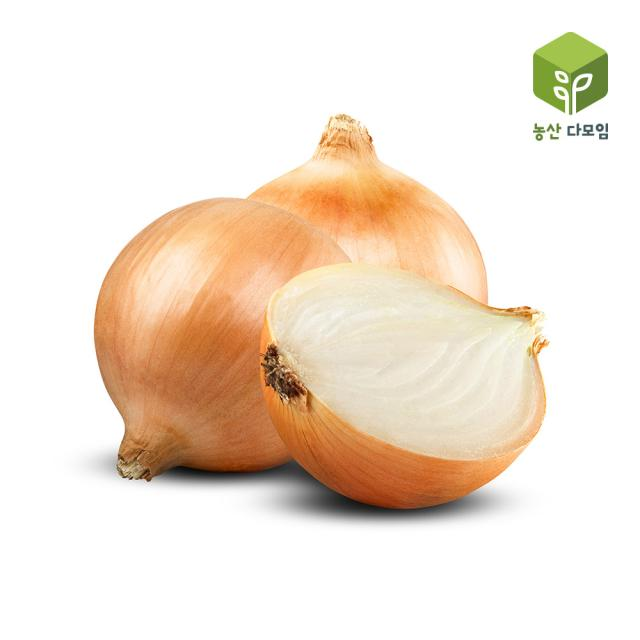onion: (91, 141, 549, 518), (260, 257, 550, 515)
